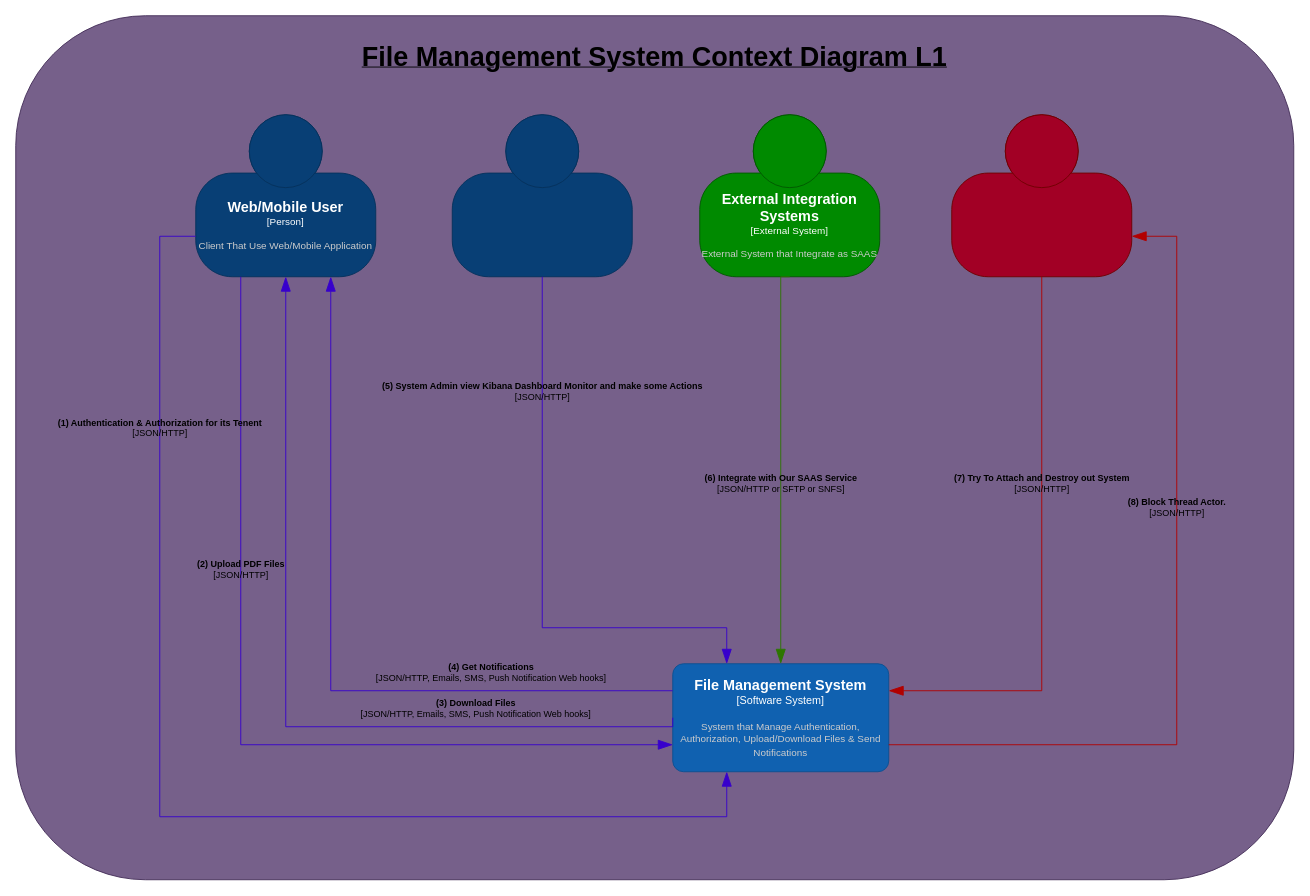
Image size: 1310x896. Some labels were removed from this diagram. The centre of each missing label's shape, as x and y in pixels:
"Admin [Person] Admin That Manage System From Kibana Dashboard" goes at pixel 541 195.
"Thread Actor [Person] Thread Actor that need to destroy out System" goes at pixel 1041 195.
